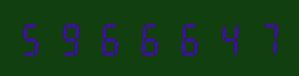five: (17, 20, 54, 56)
four: (207, 20, 244, 56)
nine: (55, 20, 92, 56)
seven: (245, 20, 282, 56)
six: (93, 20, 130, 56), (131, 20, 168, 56), (169, 20, 206, 56)
